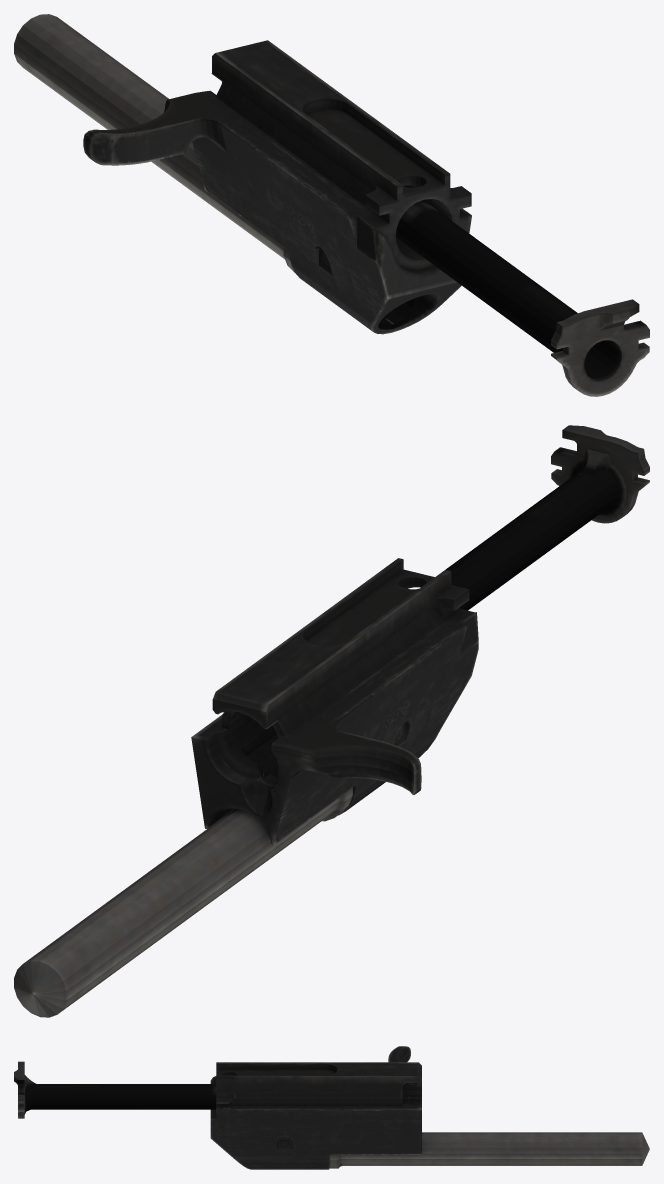
The picture shows the model from 3 angles, top to bottom: view 1: azimuth 30°, elevation 25°; view 2: azimuth 150°, elevation 25°; view 3: azimuth 270°, elevation 25°; orthographic projection. The views are drawn at different scales.
Visible parts, largest first — view 1: TW_651450ce0e00edc794068371_PZ_Import; view 2: TW_651450ce0e00edc794068371_PZ_Import; view 3: TW_651450ce0e00edc794068371_PZ_Import.
Boxes of the visible parts, x1,y1,x2,y2 form: TW_651450ce0e00edc794068371_PZ_Import: (14, 14, 649, 396); TW_651450ce0e00edc794068371_PZ_Import: (14, 425, 649, 1017); TW_651450ce0e00edc794068371_PZ_Import: (14, 1046, 649, 1169).
Size of the model in its own units: 0.0288 by 0.1343 by 0.0229.
1 material, 1 textured.
